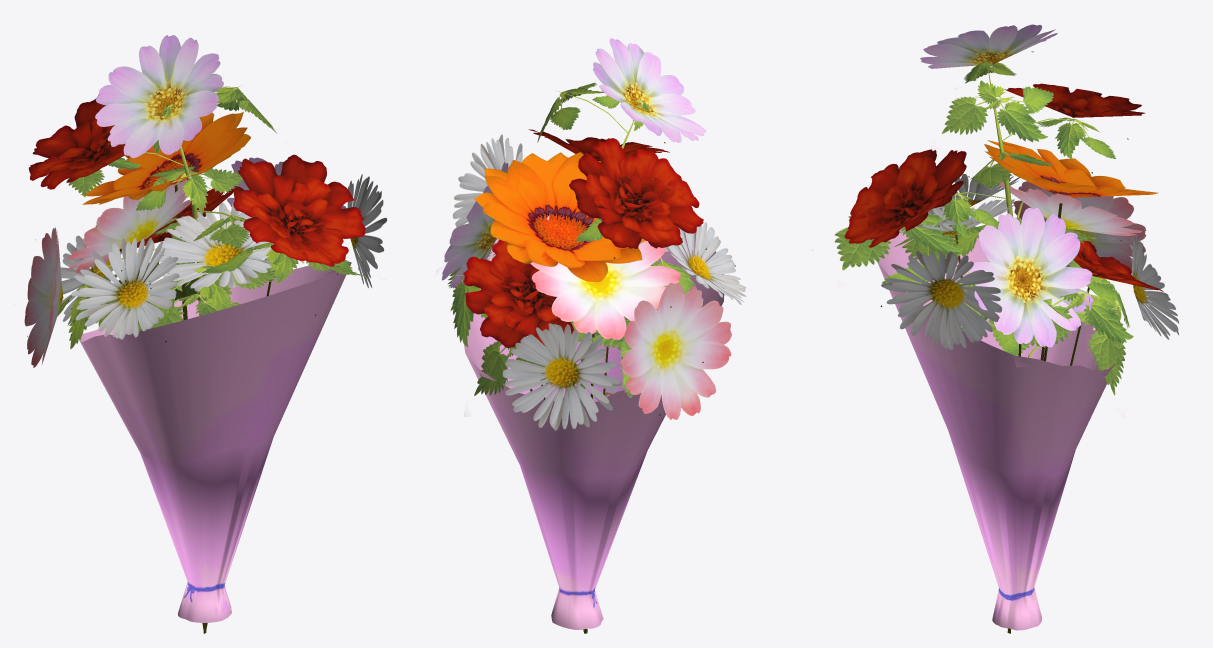
File: bouquet_export.glb
3 views of the same model, side by side, from view 1: azimuth 30°, elevation 25°; view 2: azimuth 150°, elevation 25°; view 3: azimuth 270°, elevation 25° (orthographic). The views are drawn at different scales.
Parts seen in each view (by area): view 1: bouq; view 2: bouq; view 3: bouq.
Boxes of the visible parts, left/top/right/bottom form: bouq: left=24, top=35, right=386, bottom=633; bouq: left=442, top=38, right=746, bottom=633; bouq: left=812, top=24, right=1178, bottom=633.
Size of the model in its own units: 0.4799 by 0.8496 by 0.4976.
7 materials, 7 textured.
